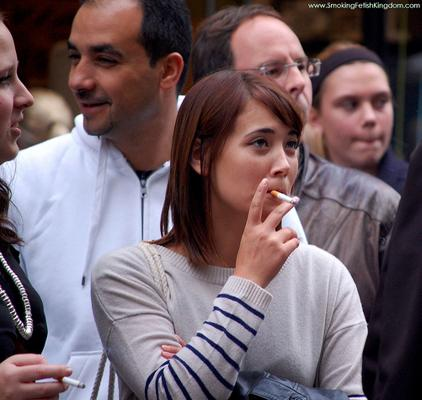person: (88, 67, 371, 400)
